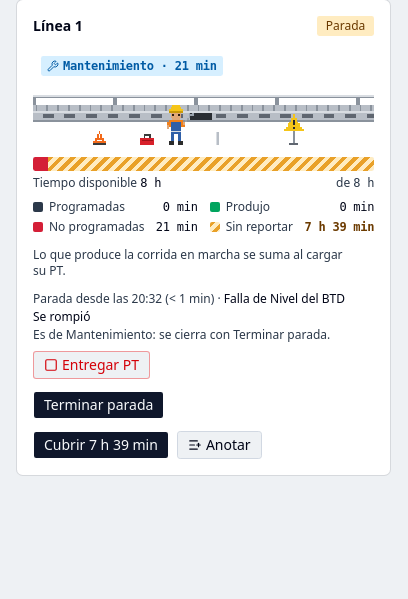
ModoParadas — paradas de Mantenimiento › Terminar parada abre el formulario de cierre
Click the button "Terminar parada". click: coordinates (99, 405)
box: [33,391,164,419]
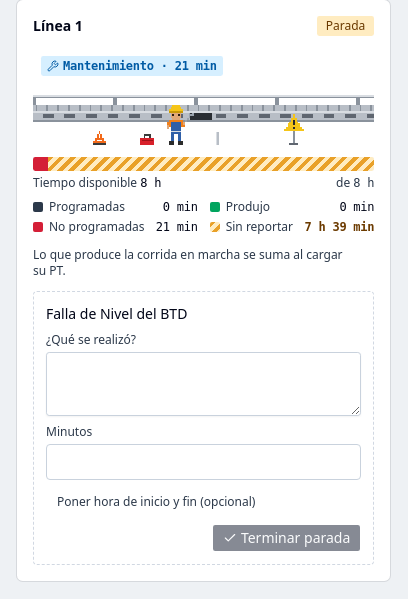
expect the text box labelled "¿Qué se realizó?" is shown: met, box [46,352,361,416]
